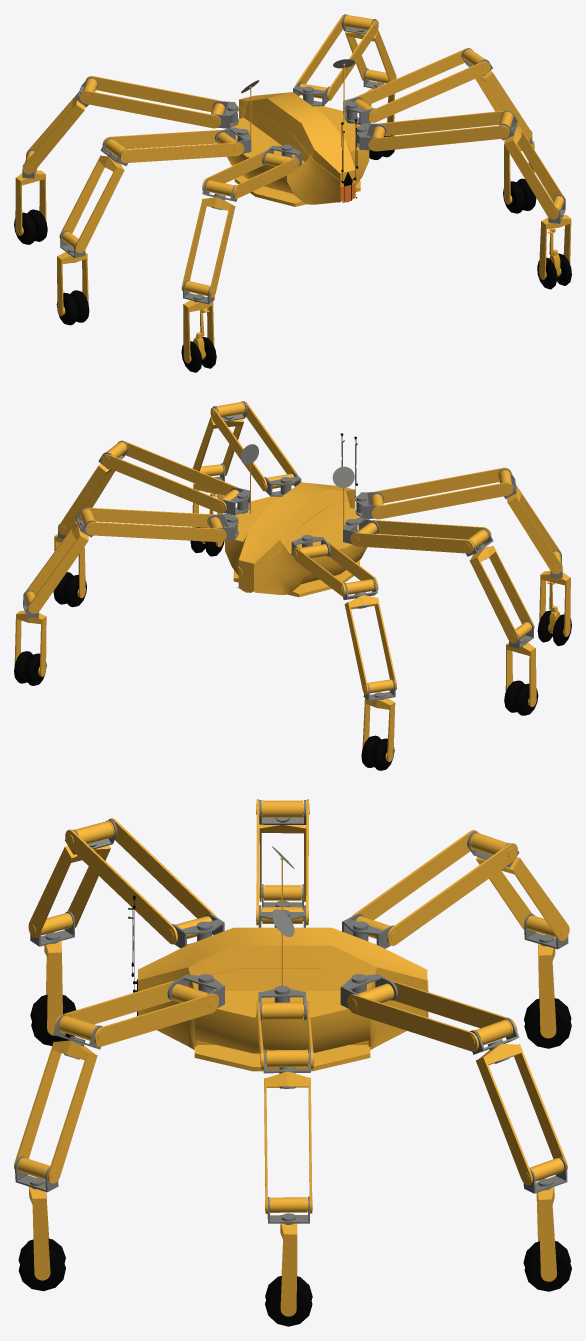
Rendered from Athlete_Rover_Prop.glb.
3 renders of one model, top to bottom at view 1: azimuth 30°, elevation 25°; view 2: azimuth 150°, elevation 25°; view 3: azimuth 270°, elevation 25°, orthographic. The views are drawn at different scales.
Visible parts, largest first — view 1: Athlete_Prop; view 2: Athlete_Prop; view 3: Athlete_Prop.
Boxes of the visible parts, x1,y1,x2,y2 form: Athlete_Prop: [14, 14, 571, 372]; Athlete_Prop: [14, 401, 571, 770]; Athlete_Prop: [14, 799, 571, 1326].
Size of what is drawn, in the model's own units: 24.63 by 9.92 by 17.51.
